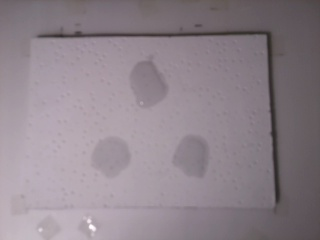Water_detected: (183, 142, 217, 171), (99, 149, 124, 178), (140, 76, 163, 103)
